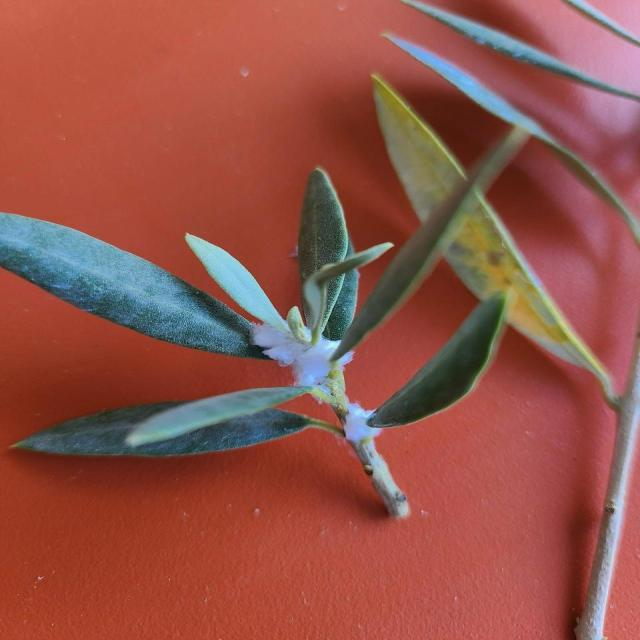Psyllid: (251, 306, 353, 412), (333, 402, 381, 464)
